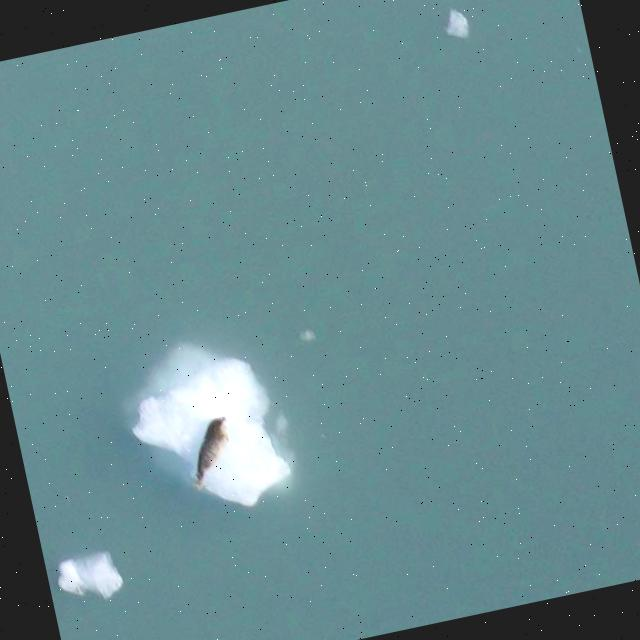seal: (193, 415, 230, 492)
